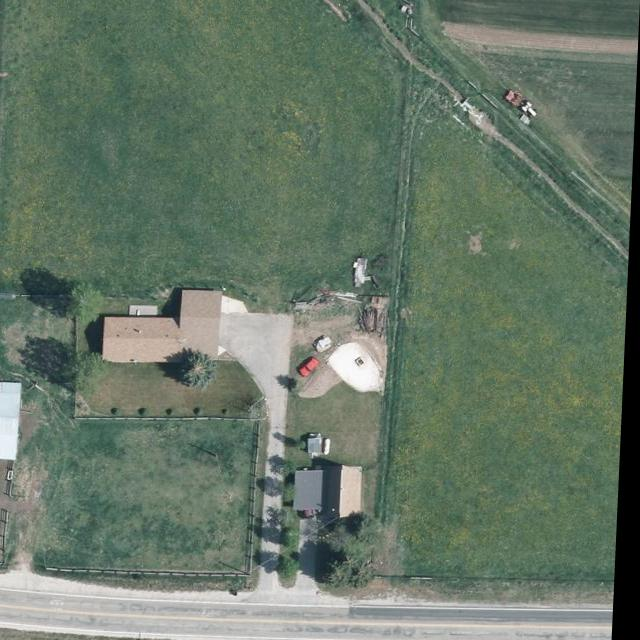vehicle: (300, 488, 320, 520), (301, 357, 326, 377)
